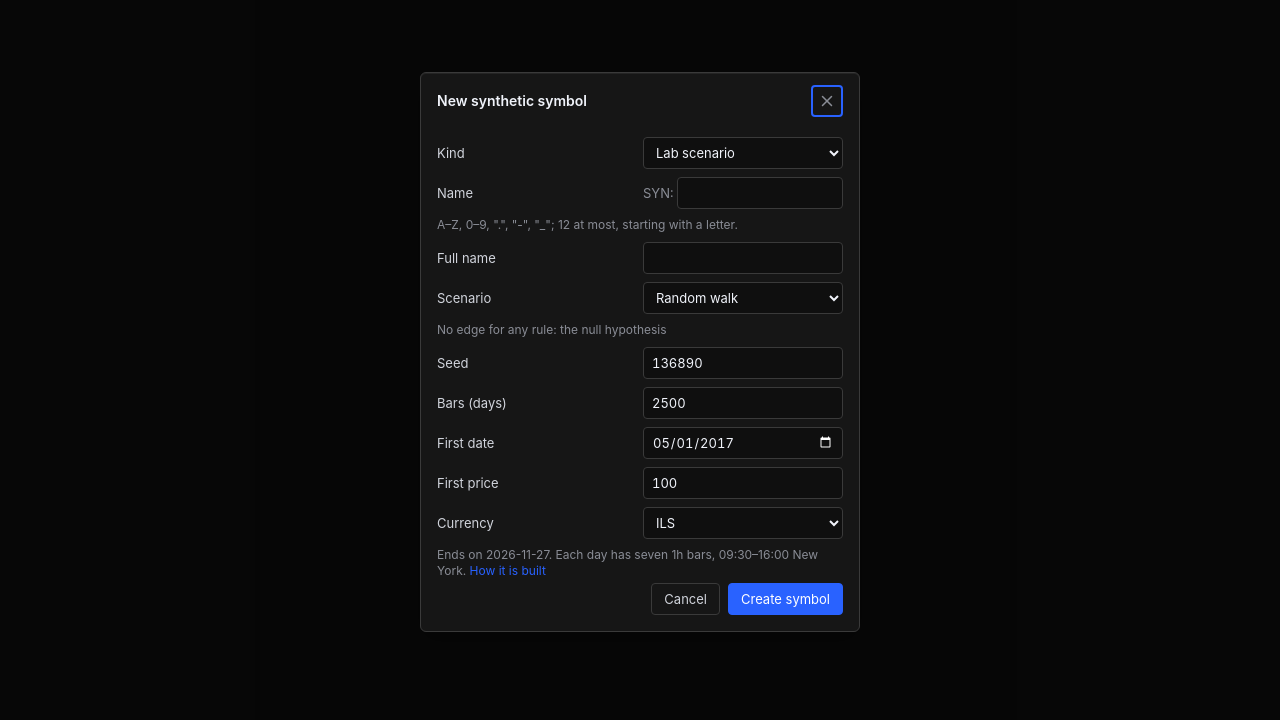
Scenario: SyntheticSymbolDialog › checks the name before sending, and says when it is taken
Type "x" into the field labelled "Full name" at point(743, 258), box [643, 242, 843, 274]
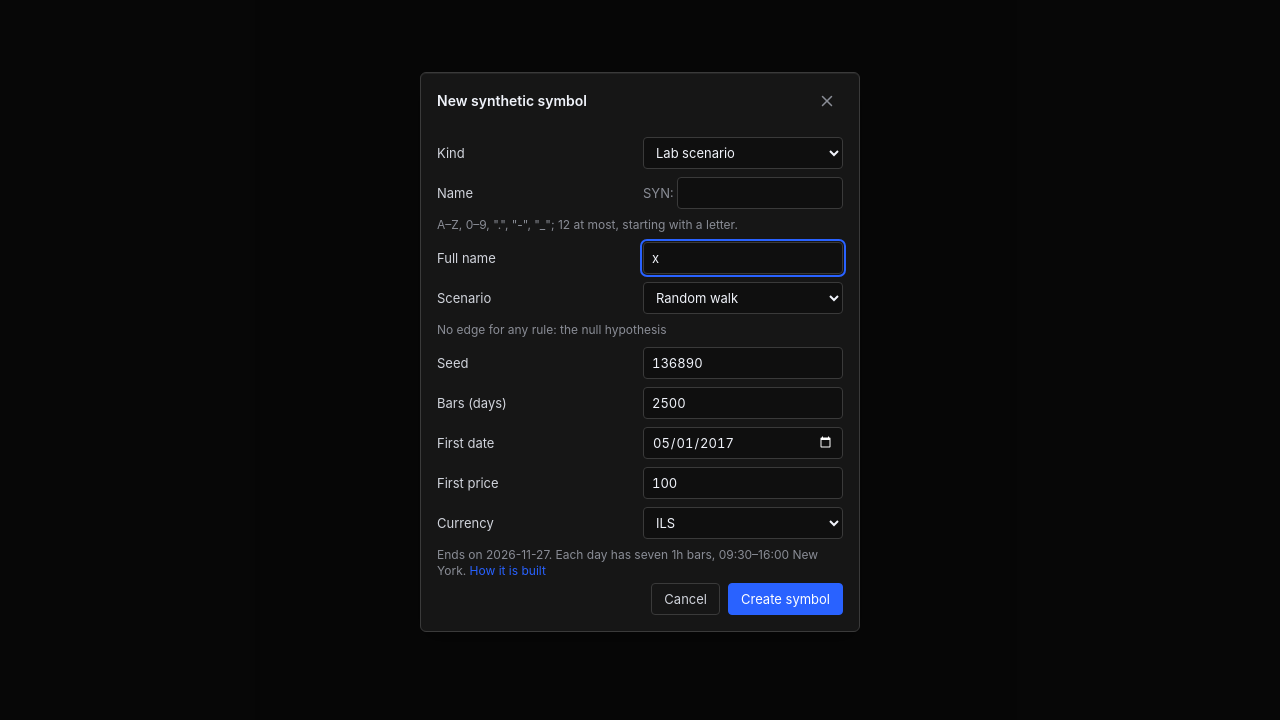
Type "1a" into the field labelled "Name" at point(760, 193), box [678, 177, 843, 209]
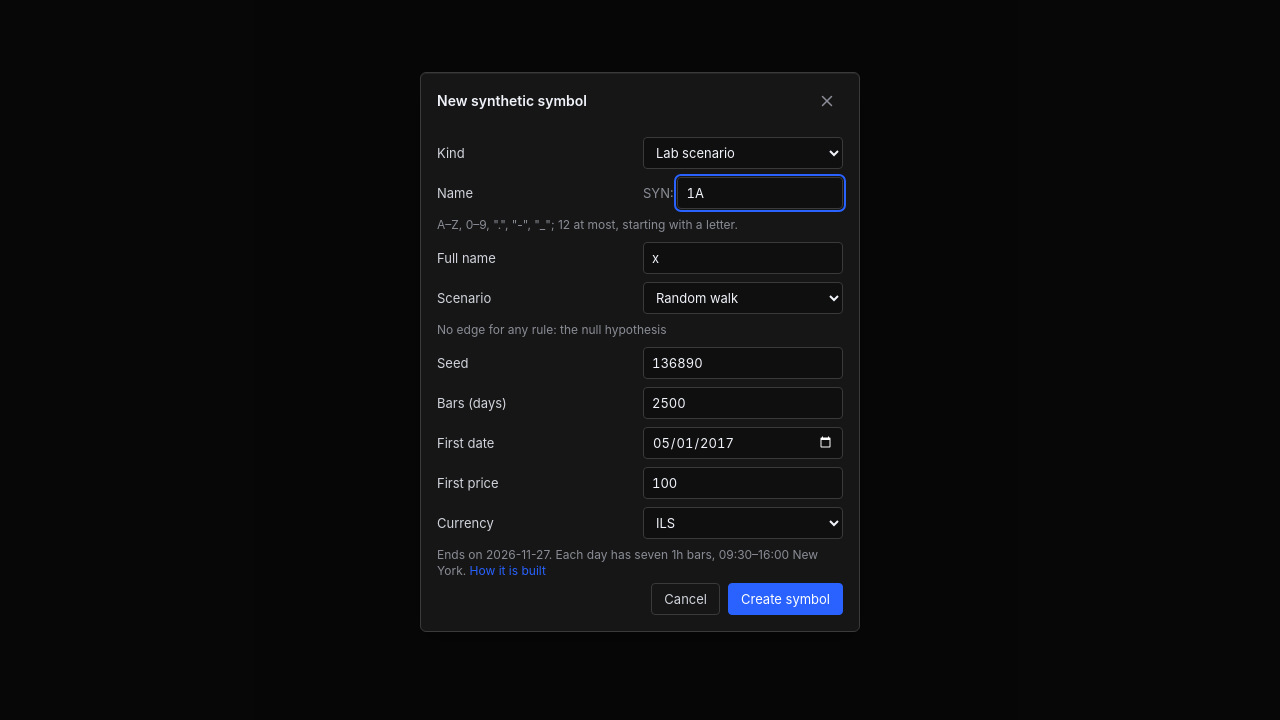
Click the button "Create symbol" at point(786, 599), box [728, 583, 843, 615]
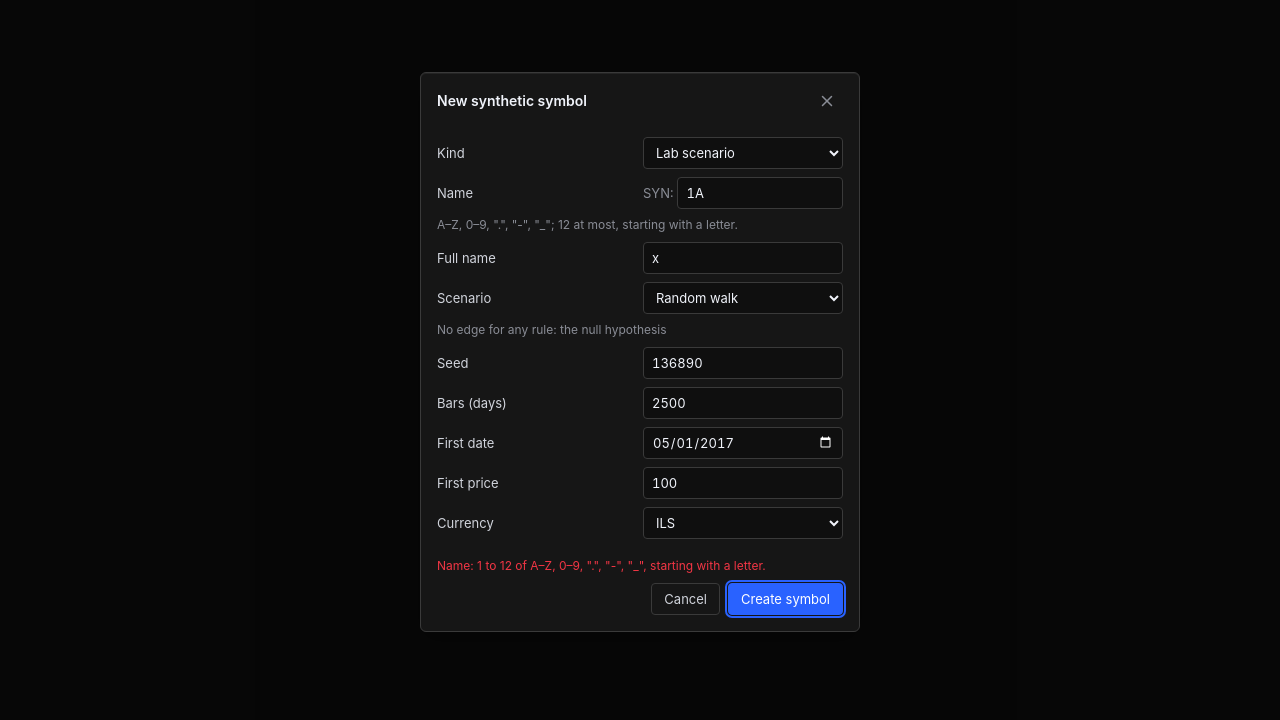
Check: the message shows "starting with a letter", box [437, 558, 766, 573]
Replace the text in the field labelled "Name" with "new1" at point(760, 193), box [678, 177, 843, 209]
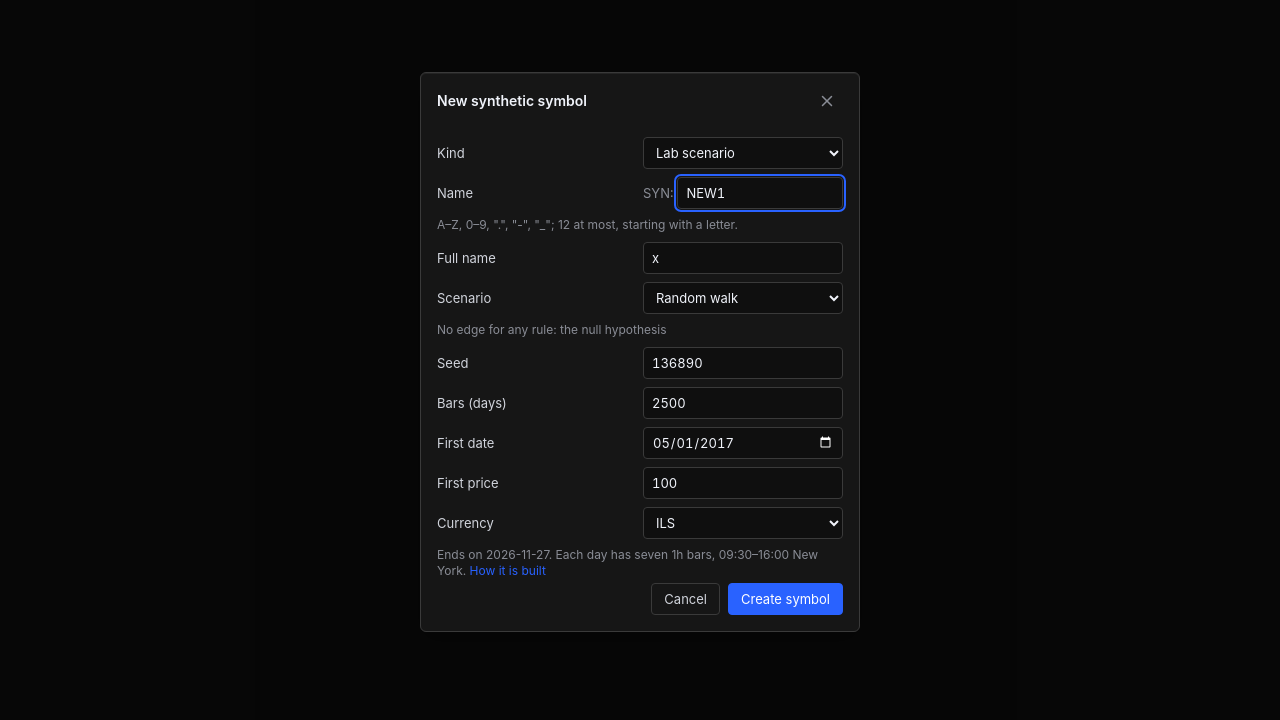
Click the button "Create symbol" at point(786, 599), box [728, 583, 843, 615]
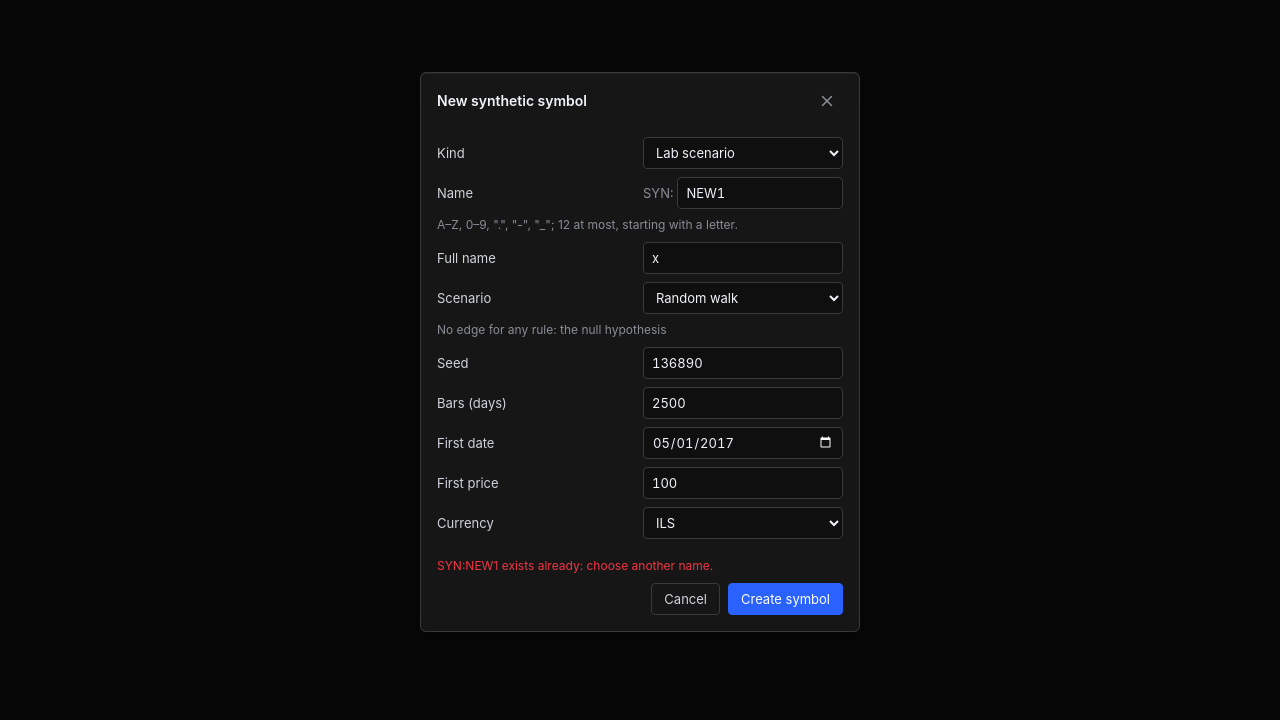
Check: the message reads "SYN:NEW1 exists already: choose another name.", box [437, 558, 713, 573]
